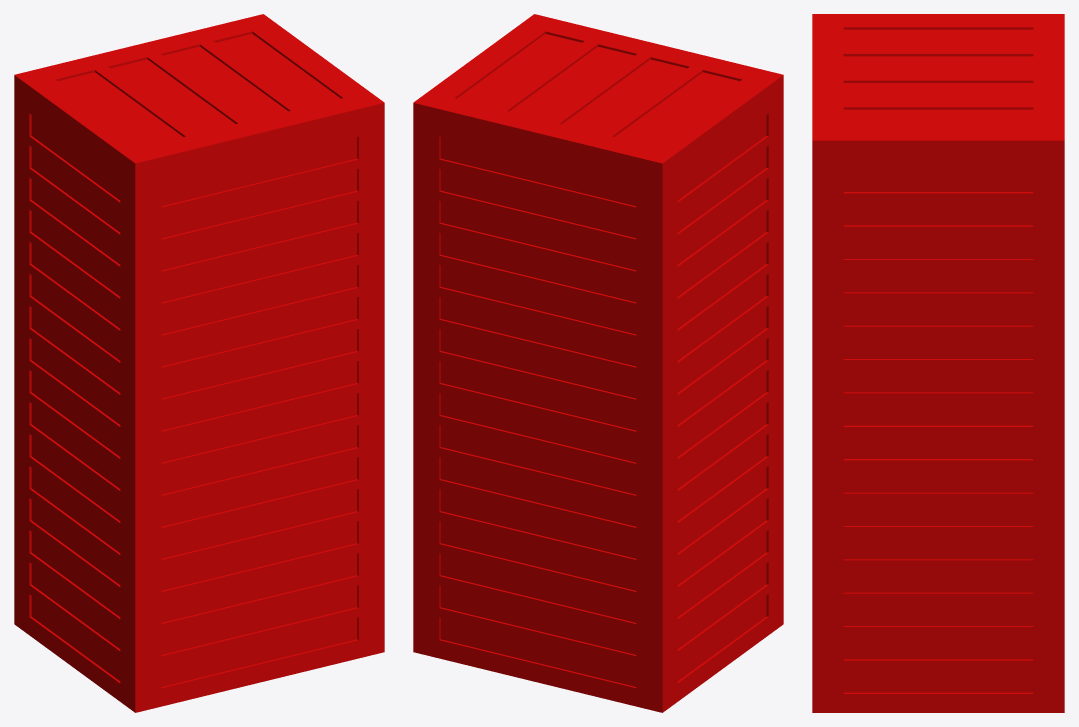
File: container.dae
3 renders of one model, left to right at view 1: azimuth 30°, elevation 25°; view 2: azimuth 150°, elevation 25°; view 3: azimuth 270°, elevation 25°, orthographic. The views are drawn at different scales.
Visible parts, largest first — view 1: container; view 2: container; view 3: container.
Part boxes in pixels (<box>): container: <box>14,14,384,712</box>; container: <box>413,14,783,712</box>; container: <box>812,14,1064,712</box>.
Size of the model in its own units: 2.9 by 2.44 by 6.1.
